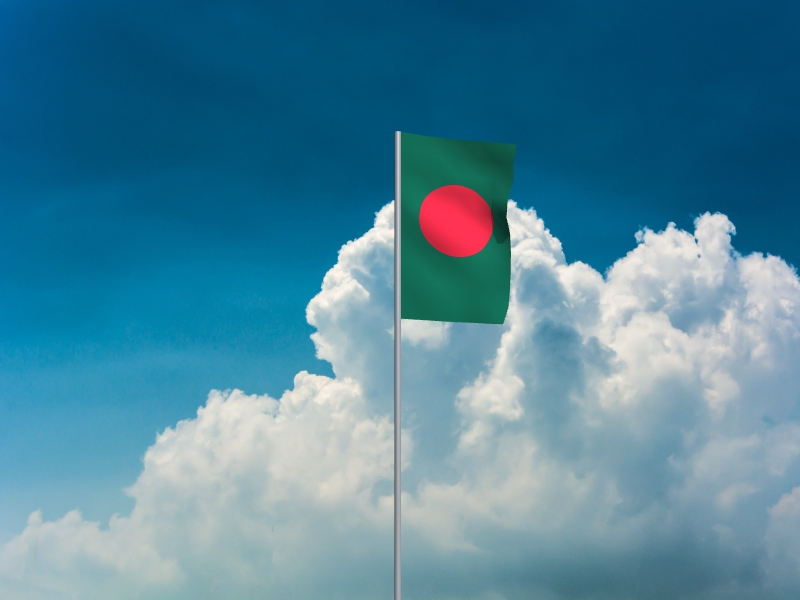bd: (402, 133, 519, 326)
